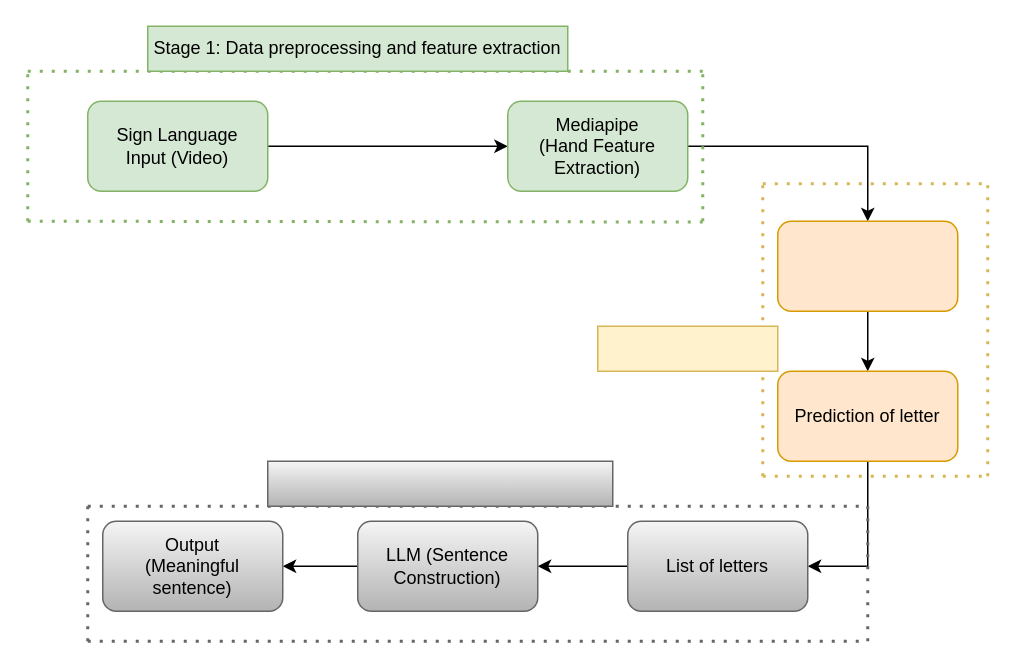
This 1016x671 diagram has some shape labels left out. The centre of each missing label's shape, as x and y in pixels:
Random Forest Model: the point at 867,265
Stage 2: Machine Learning Prediction: the point at 687,348
Stage 3: Sentence Formation: the point at 439,483
